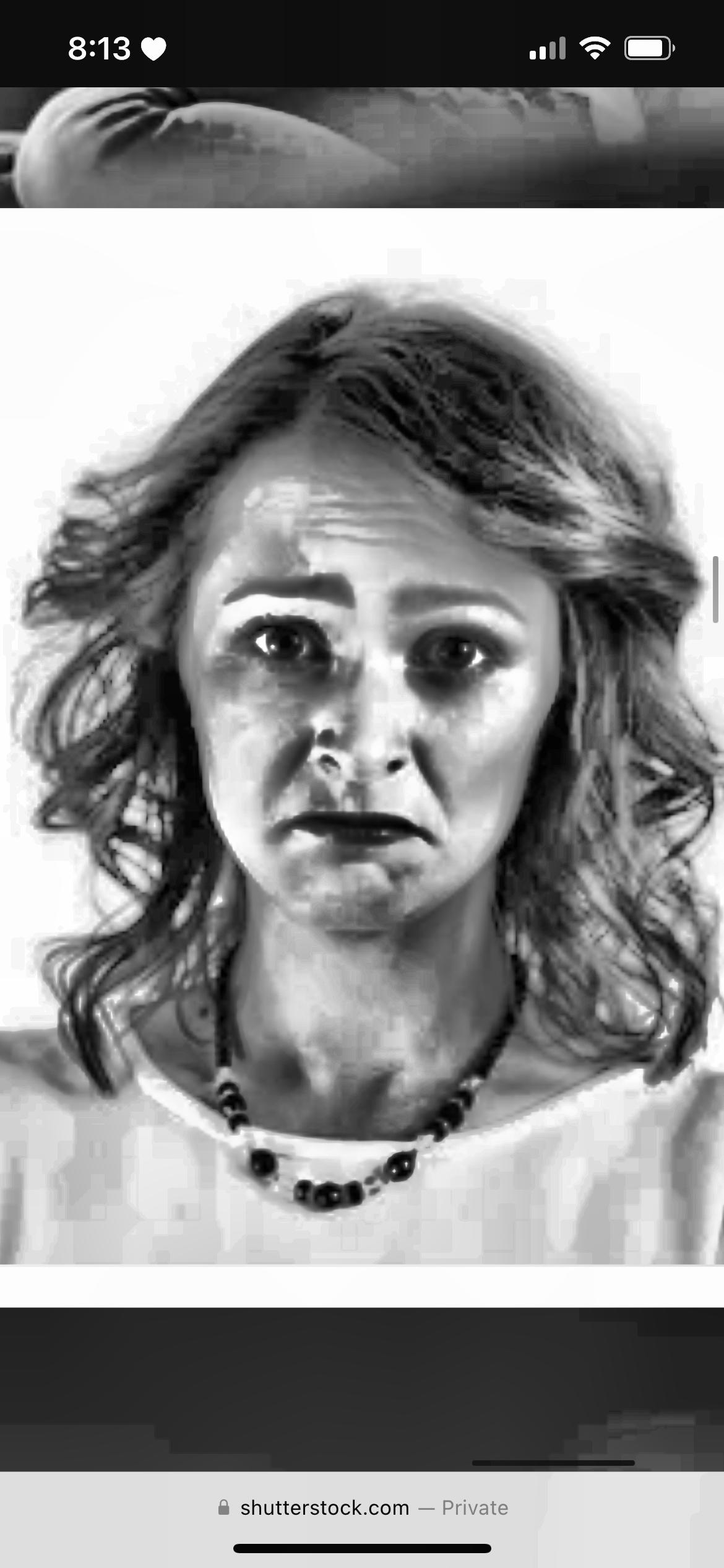sad: (163, 351, 567, 914)
